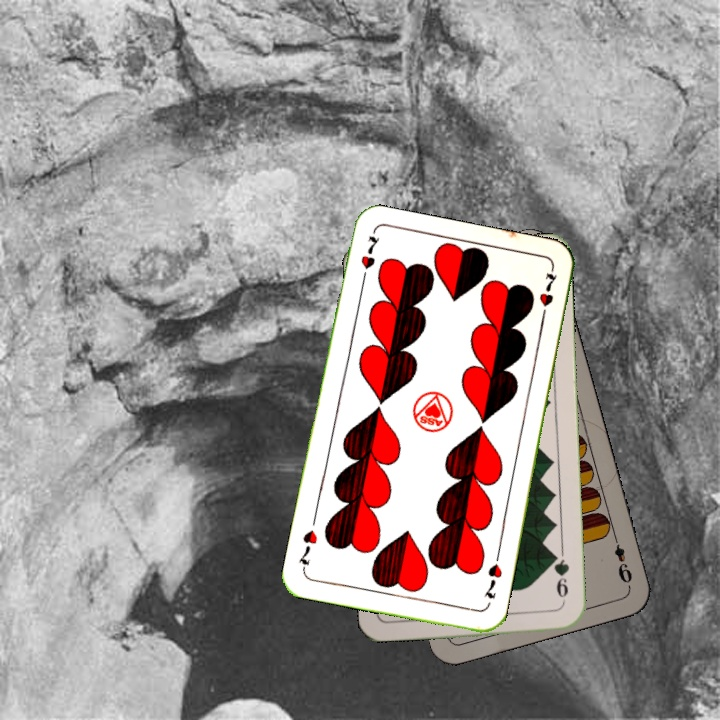E9: (609, 531, 635, 589)
G9: (549, 549, 572, 607)
H7: (357, 232, 382, 288), (480, 559, 505, 601)
